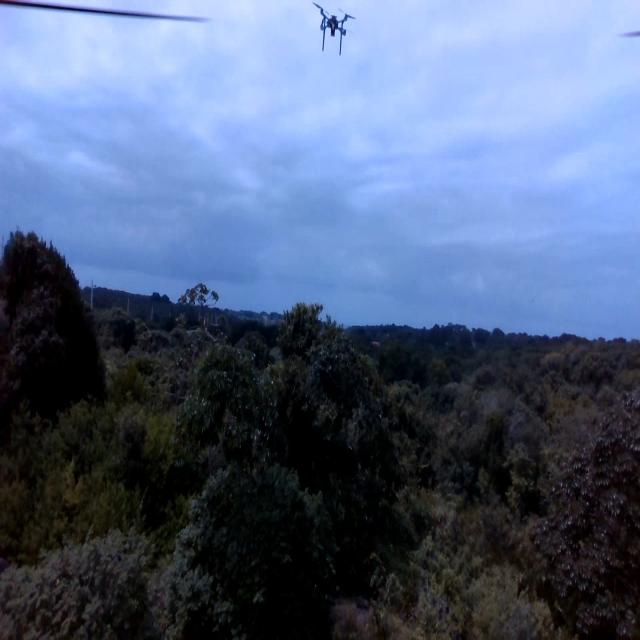-uav-: (307, 3, 364, 62)
